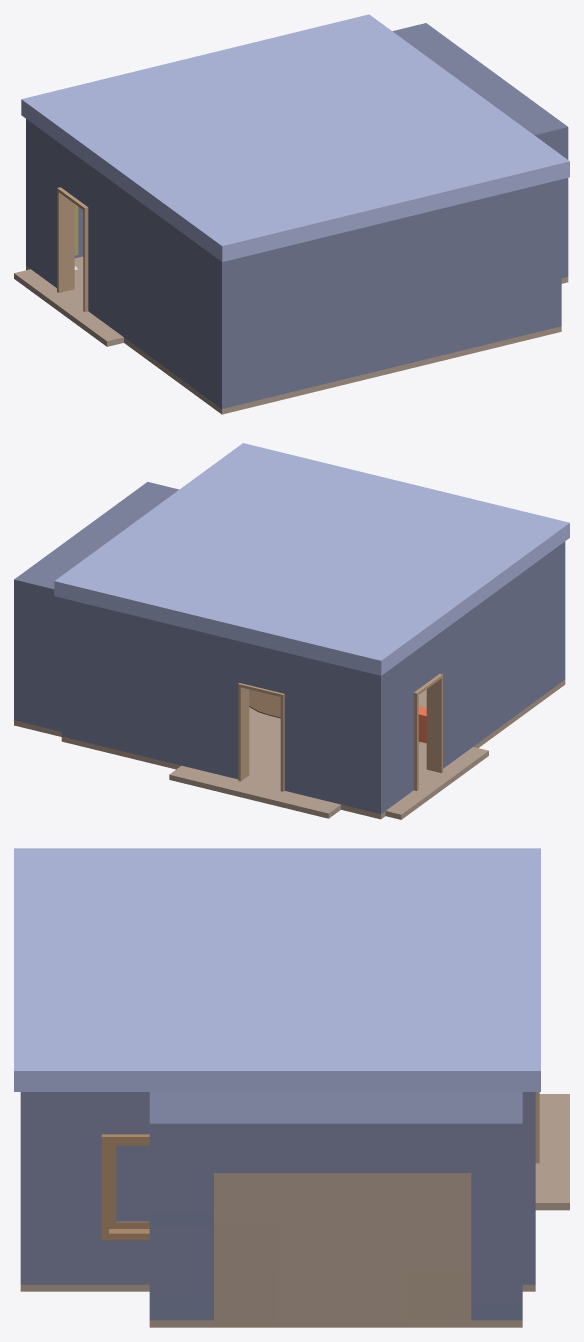
Rendered from Bedroom1.4_JLH.fbx.
3 views of the same model, one above another, from view 1: azimuth 30°, elevation 25°; view 2: azimuth 150°, elevation 25°; view 3: azimuth 270°, elevation 25° (orthographic). The views are drawn at different scales.
Visible parts, largest first — view 1: pCube3, pCube2, doorwayOpen; view 2: pCube3, pCube2, doorwayOpen, doorwayOpen1; view 3: pCube2, pCube3, wallWindow, window.
Boxes of the visible parts, bbox=[...] form: pCube3: bbox=[14, 23, 568, 414]; pCube2: bbox=[21, 14, 569, 261]; doorwayOpen: bbox=[57, 187, 88, 311]; pCube3: bbox=[14, 482, 565, 819]; pCube2: bbox=[54, 443, 569, 675]; doorwayOpen: bbox=[413, 674, 442, 790]; doorwayOpen1: bbox=[238, 683, 284, 791]; pCube2: bbox=[14, 848, 540, 1091]; pCube3: bbox=[20, 1091, 569, 1327]; wallWindow: bbox=[101, 1134, 149, 1240]; window: bbox=[109, 1143, 149, 1228].
Size of the model in its own units: 4181 by 1656 by 3719.
